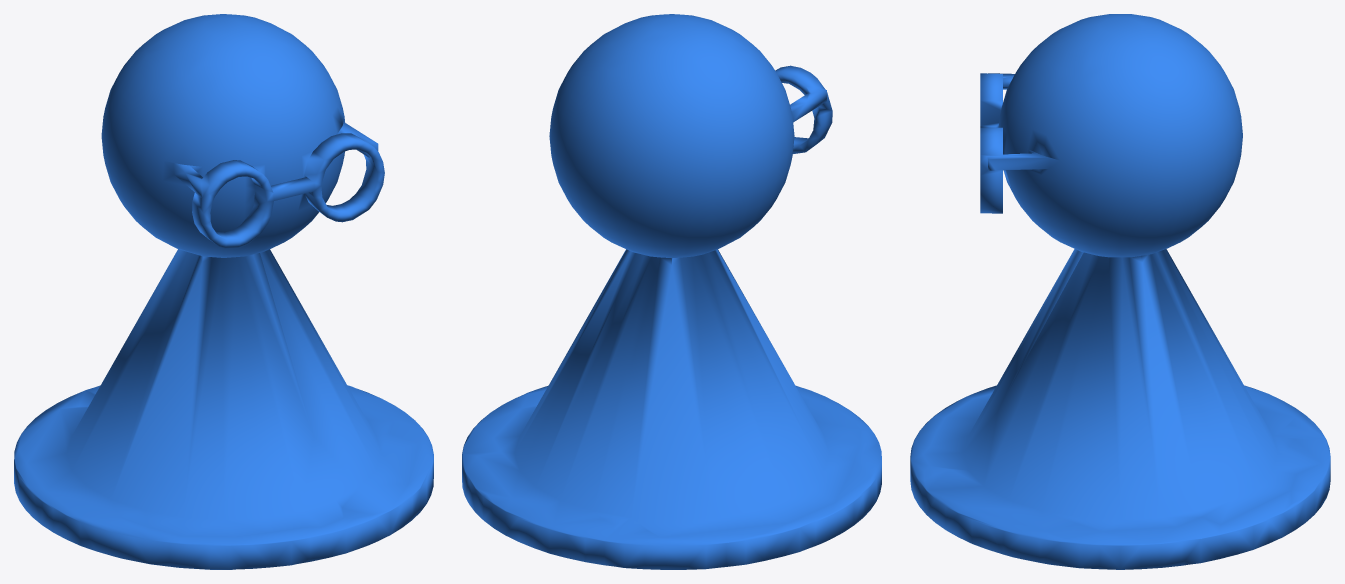
Rendered from Cientista.fbx.
3 views of the same model, side by side, from view 1: azimuth 30°, elevation 25°; view 2: azimuth 150°, elevation 25°; view 3: azimuth 270°, elevation 25° (orthographic).
Visible parts, largest first — view 1: Cientista; view 2: Cientista; view 3: Cientista.
Part boxes in pixels (box(x1,y1,x2,y2)): Cientista: box(14, 14, 433, 569); Cientista: box(462, 14, 881, 569); Cientista: box(910, 14, 1330, 569).
Size of the model in its own units: 1209 by 1456 by 1210.
